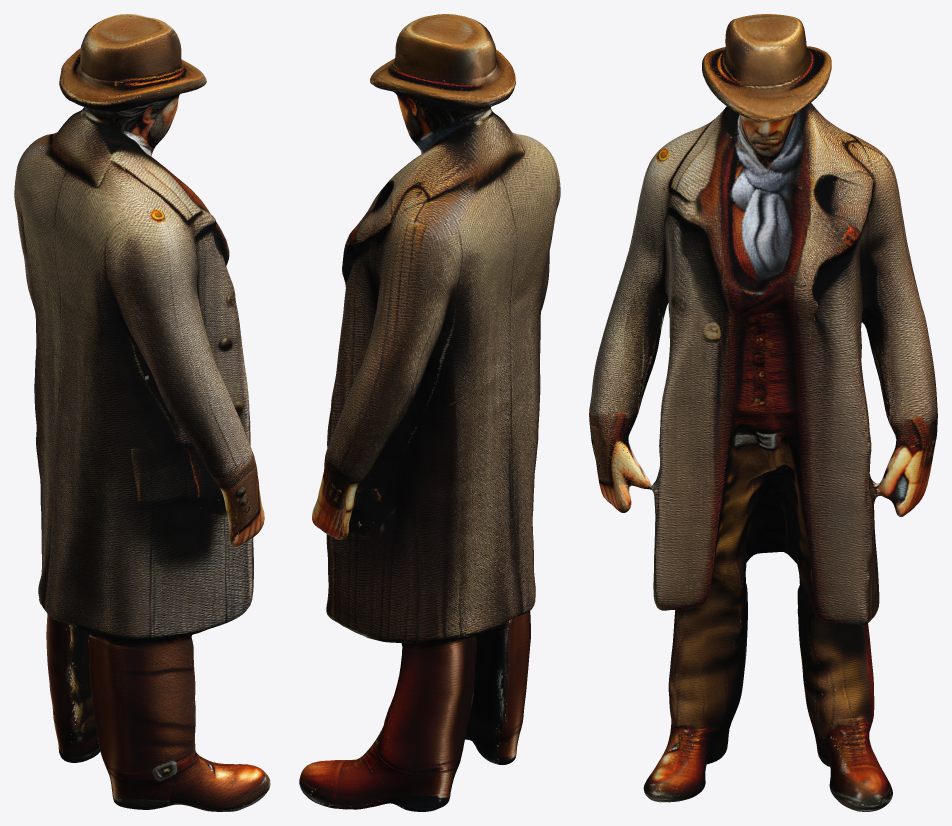
File: textured_ours.glb
3 renders of one model, left to right at view 1: azimuth 30°, elevation 25°; view 2: azimuth 150°, elevation 25°; view 3: azimuth 270°, elevation 25°, orthographic.
Visible parts, largest first — view 1: Node; view 2: Node; view 3: Node.
Part boxes in pixels (x1=…): Node: x1=14, y1=14, x2=270, y2=811; Node: x1=299, y1=14, x2=560, y2=811; Node: x1=589, y1=14, x2=937, y2=811.
Bounding box in the file's own units: 0.4902 × 2 × 0.8446.
Materials: 1 (1 with a texture image).
